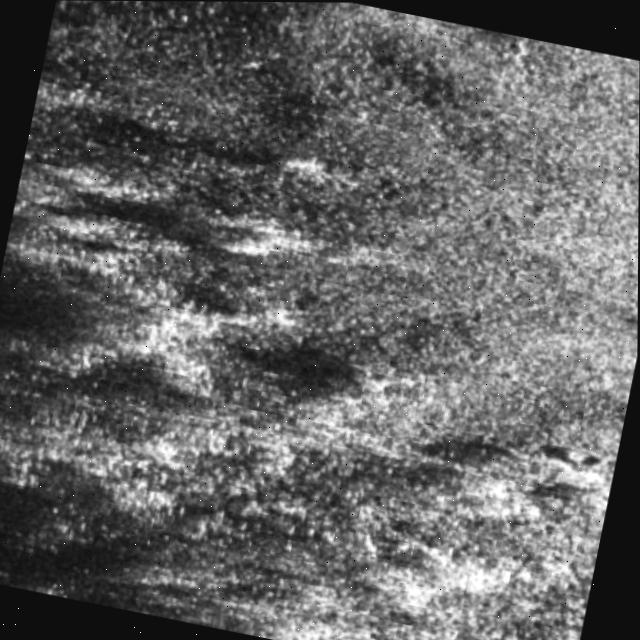bedrock group: (0, 91, 639, 640)
